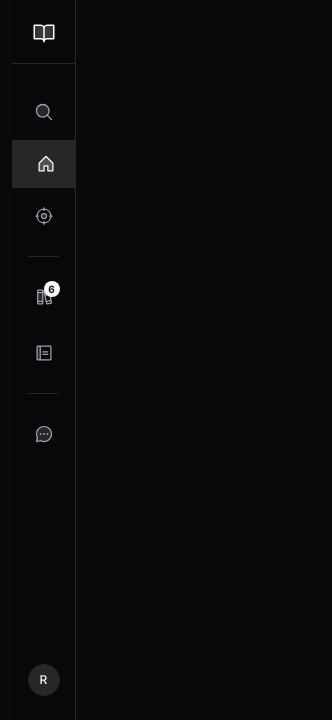
app navigation › expands the desktop sidebar on keyboard focus so submenu destinations are reachable
Step 1. Focus the link named "search" → (44, 112), box [34,102,54,122]
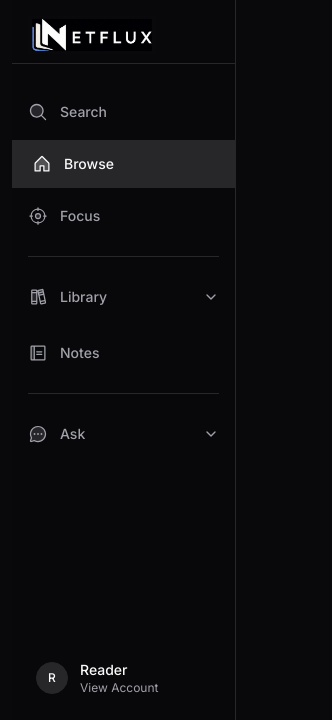
Now the button "Library" is shown, box [12,273,235,321]
Now the button "Ask" is shown, box [12,410,235,458]
